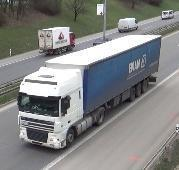Truck: (16, 34, 162, 150), (37, 23, 76, 56), (117, 16, 139, 33)
Van: (161, 9, 175, 20)
